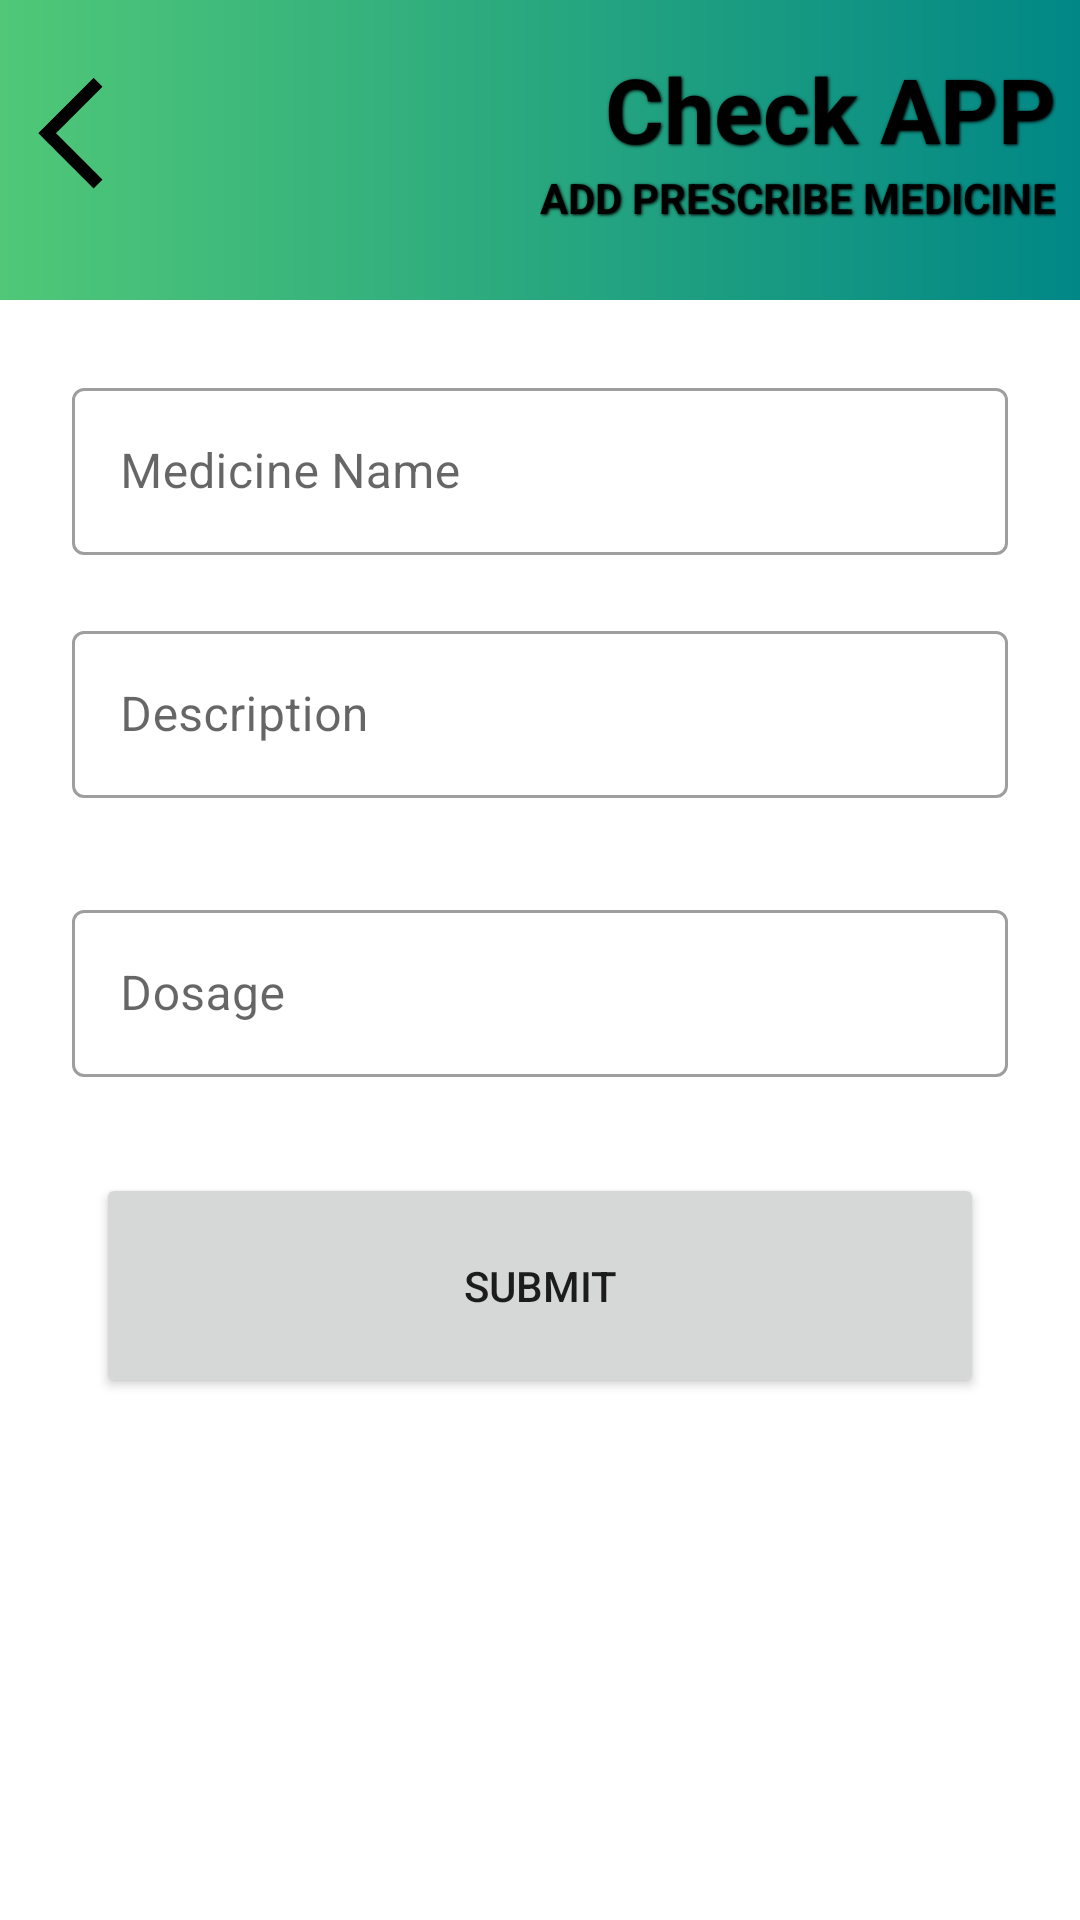

Named icons in this screenshot (1080x1920) and their bounding boxes, (x1,y1,x2,y2):
backbutton: (38,78,103,189)
